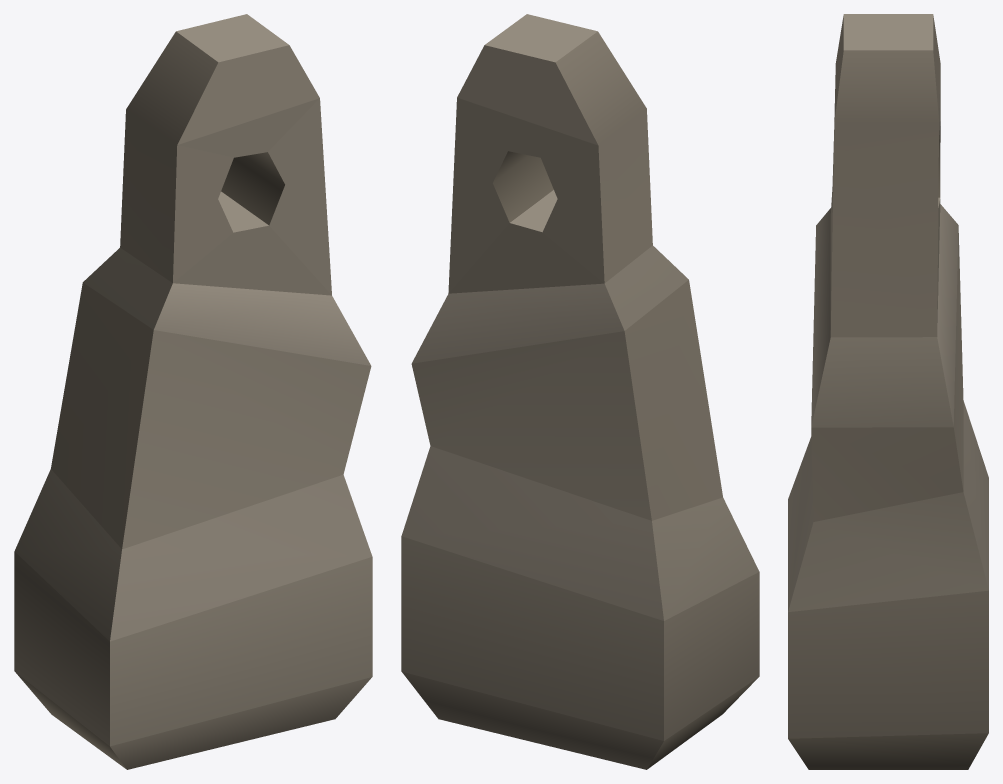
File: ManmadeMore_SF_Env_StandingStone_01.fbx
3 renders of one model, left to right at view 1: azimuth 30°, elevation 25°; view 2: azimuth 150°, elevation 25°; view 3: azimuth 270°, elevation 25°, orthographic. The views are drawn at different scales.
Parts seen in each view (by area): view 1: SF_Env_StandingStone_01; view 2: SF_Env_StandingStone_01; view 3: SF_Env_StandingStone_01.
Part boxes in pixels (left/top/right/bottom): SF_Env_StandingStone_01: left=14, top=14, right=372, bottom=769; SF_Env_StandingStone_01: left=401, top=14, right=759, bottom=769; SF_Env_StandingStone_01: left=788, top=14, right=988, bottom=769.
Bounding box in the file's own units: 191 × 448 × 116.
